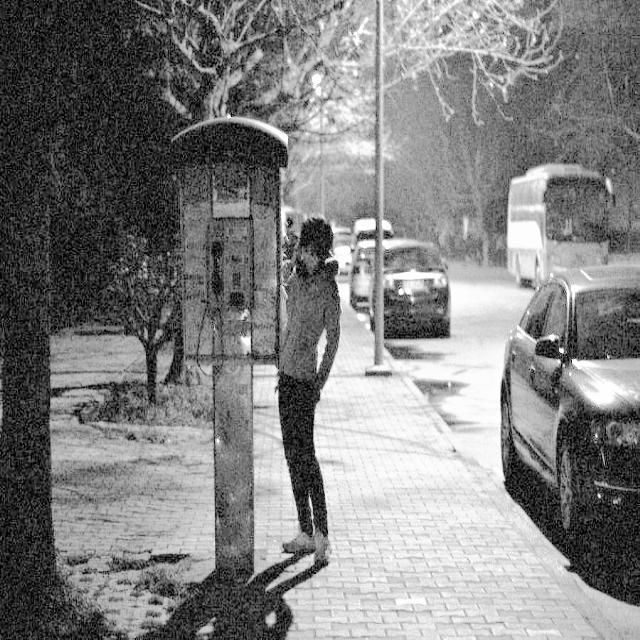Bus: (496, 160, 621, 298)
Car: (490, 277, 640, 579), (377, 222, 471, 348), (333, 215, 397, 314)
Person: (273, 193, 365, 561)
